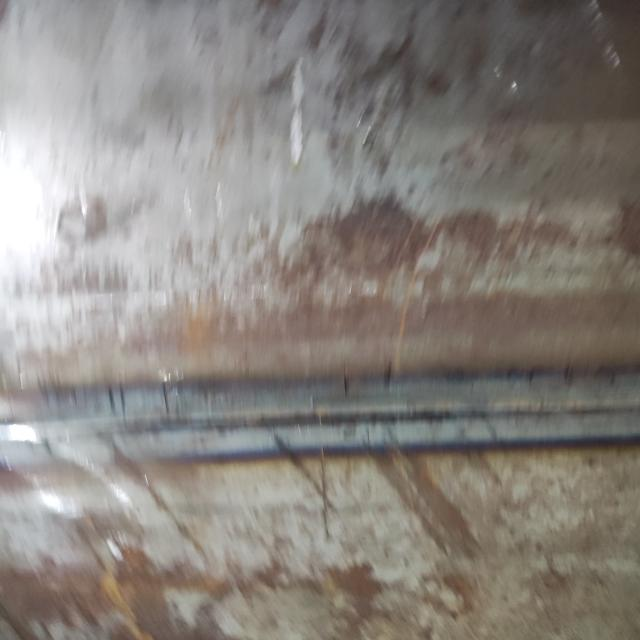seam: (0, 343, 640, 493)
